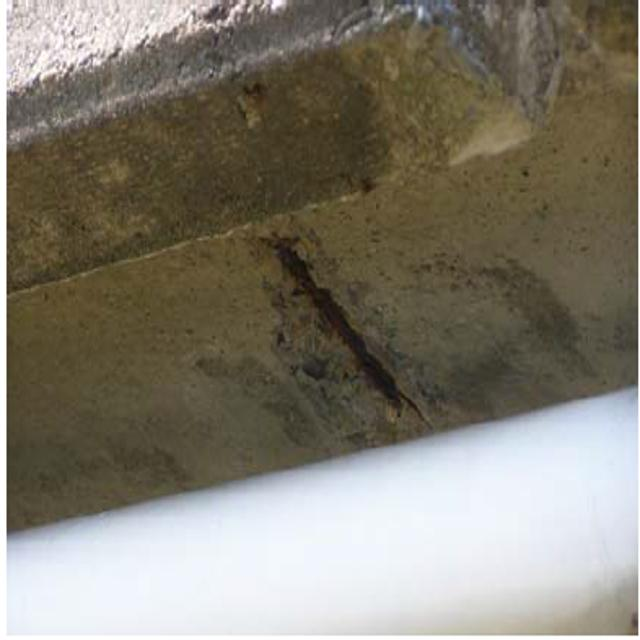spalling: (240, 229, 437, 430)
